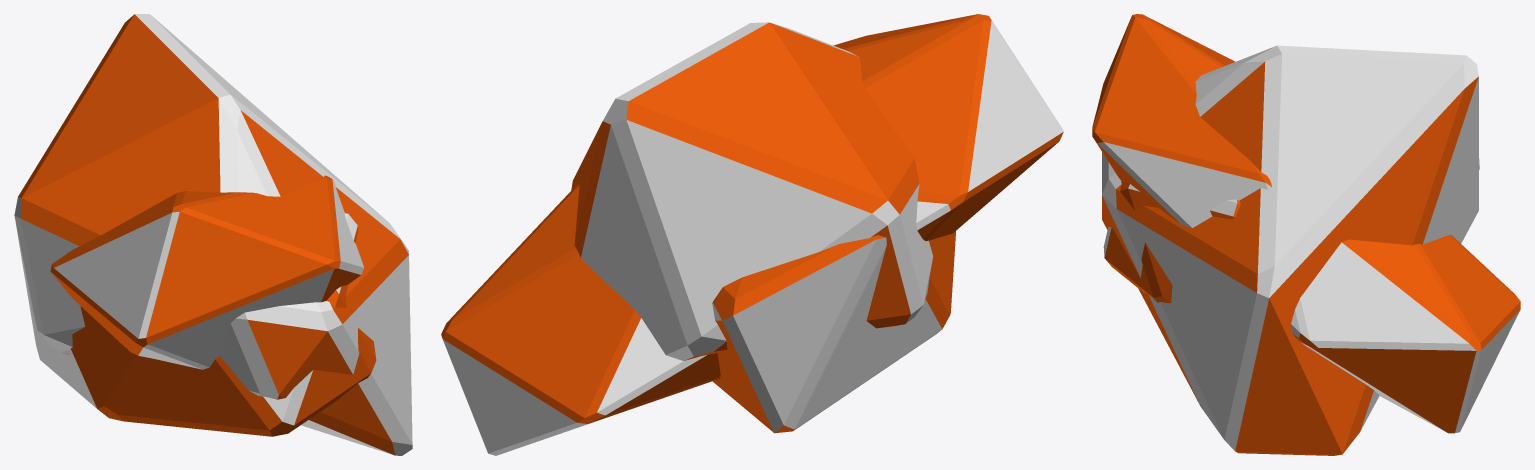
The model's file is asteroids.glb.
3 renders of one model, left to right at view 1: azimuth 30°, elevation 25°; view 2: azimuth 150°, elevation 25°; view 3: azimuth 270°, elevation 25°, orthographic. The views are drawn at different scales.
Visible parts, largest first — view 1: asteroid2, asteroid0, asteroid1; view 2: asteroid2, asteroid0, asteroid1; view 3: asteroid2, asteroid0, asteroid1.
Boxes of the visible parts, <box> form: asteroid2: <box>14,14,412,455</box>; asteroid0: <box>50,175,364,369</box>; asteroid1: <box>15,212,376,436</box>; asteroid2: <box>571,22,933,360</box>; asteroid0: <box>441,14,1063,455</box>; asteroid1: <box>712,201,955,433</box>; asteroid2: <box>1102,45,1478,455</box>; asteroid0: <box>1092,14,1520,433</box>; asteroid1: <box>1103,159,1479,303</box>.
Size of the model in its own units: 1.98 by 1.96 by 2.25.
